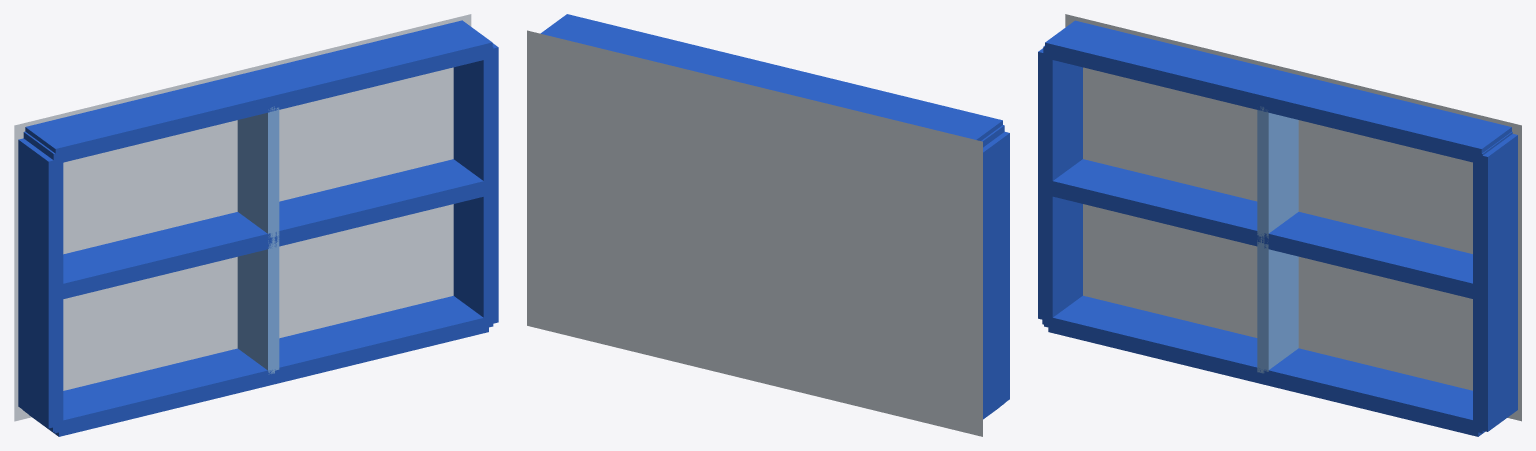
The model's file is flat_test.obj.
3 renders of one model, left to right at view 1: azimuth 30°, elevation 25°; view 2: azimuth 150°, elevation 25°; view 3: azimuth 330°, elevation 25°, orthographic.
Size of the model in its own units: 26.25 by 16.25 by 3.05.
